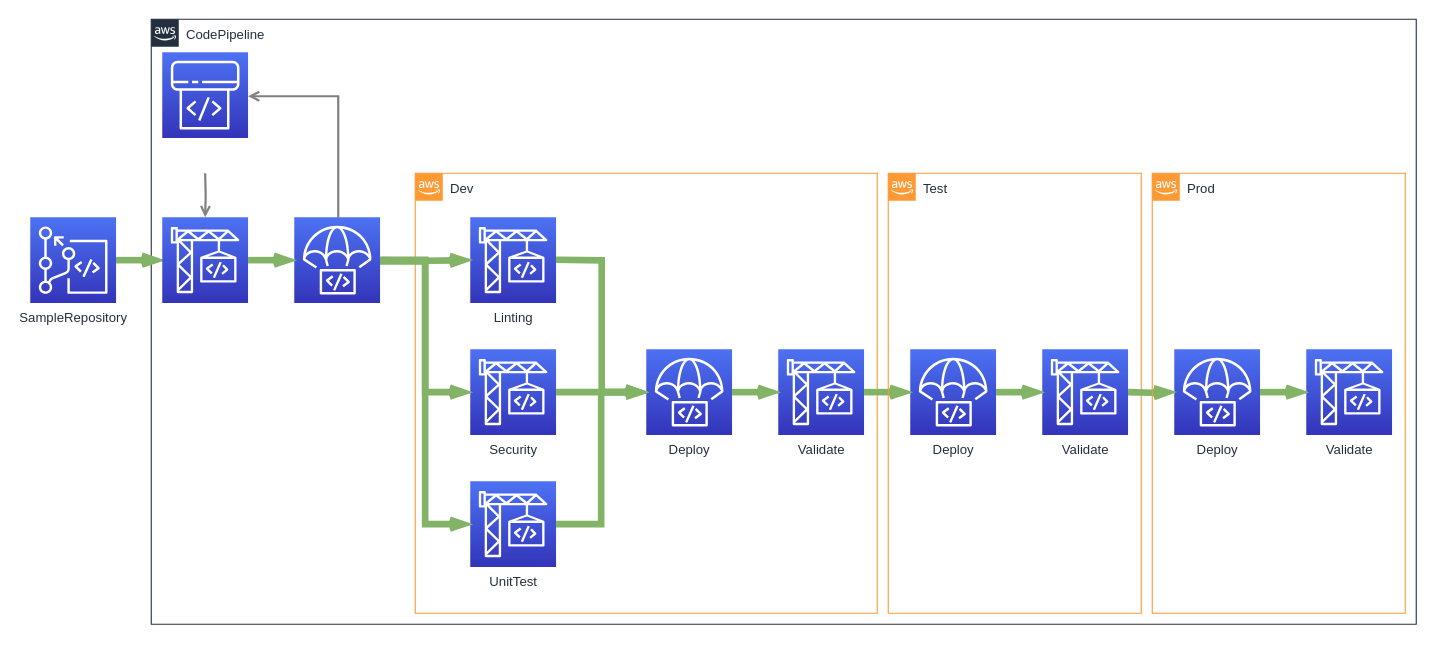
The diagram is 1436 pixels wide and 645 high, and some of its shapes have lost their labels. The shapes that lost their labels are listed below. From the top down, each one's centre as x and y in pixels, then its label:
At (x=204, y=94): "AWS CodePipeline".
At (x=204, y=259): "Build".
At (x=336, y=259): "Update".
